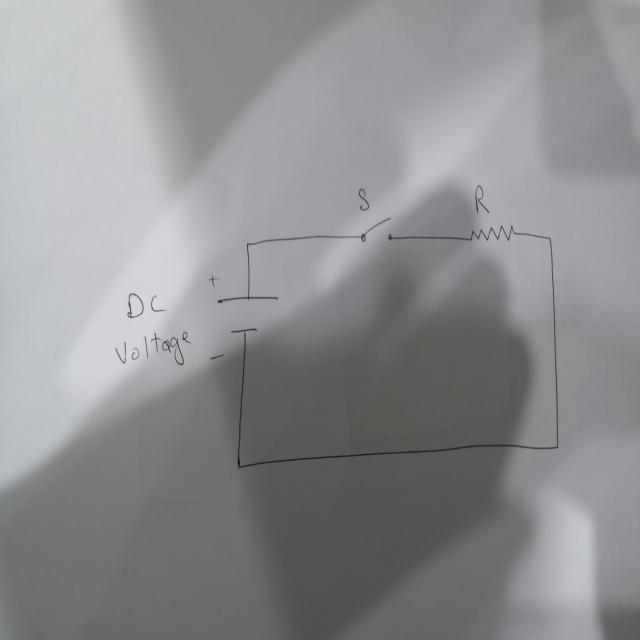junction: (544, 231, 554, 247), (234, 456, 244, 472), (243, 238, 251, 252), (553, 441, 560, 452)
resistor: (466, 223, 518, 244)
source: (215, 292, 282, 337)
switch: (359, 213, 395, 248)
text: (113, 327, 193, 368), (124, 290, 170, 320), (474, 182, 491, 215), (356, 185, 371, 213)
